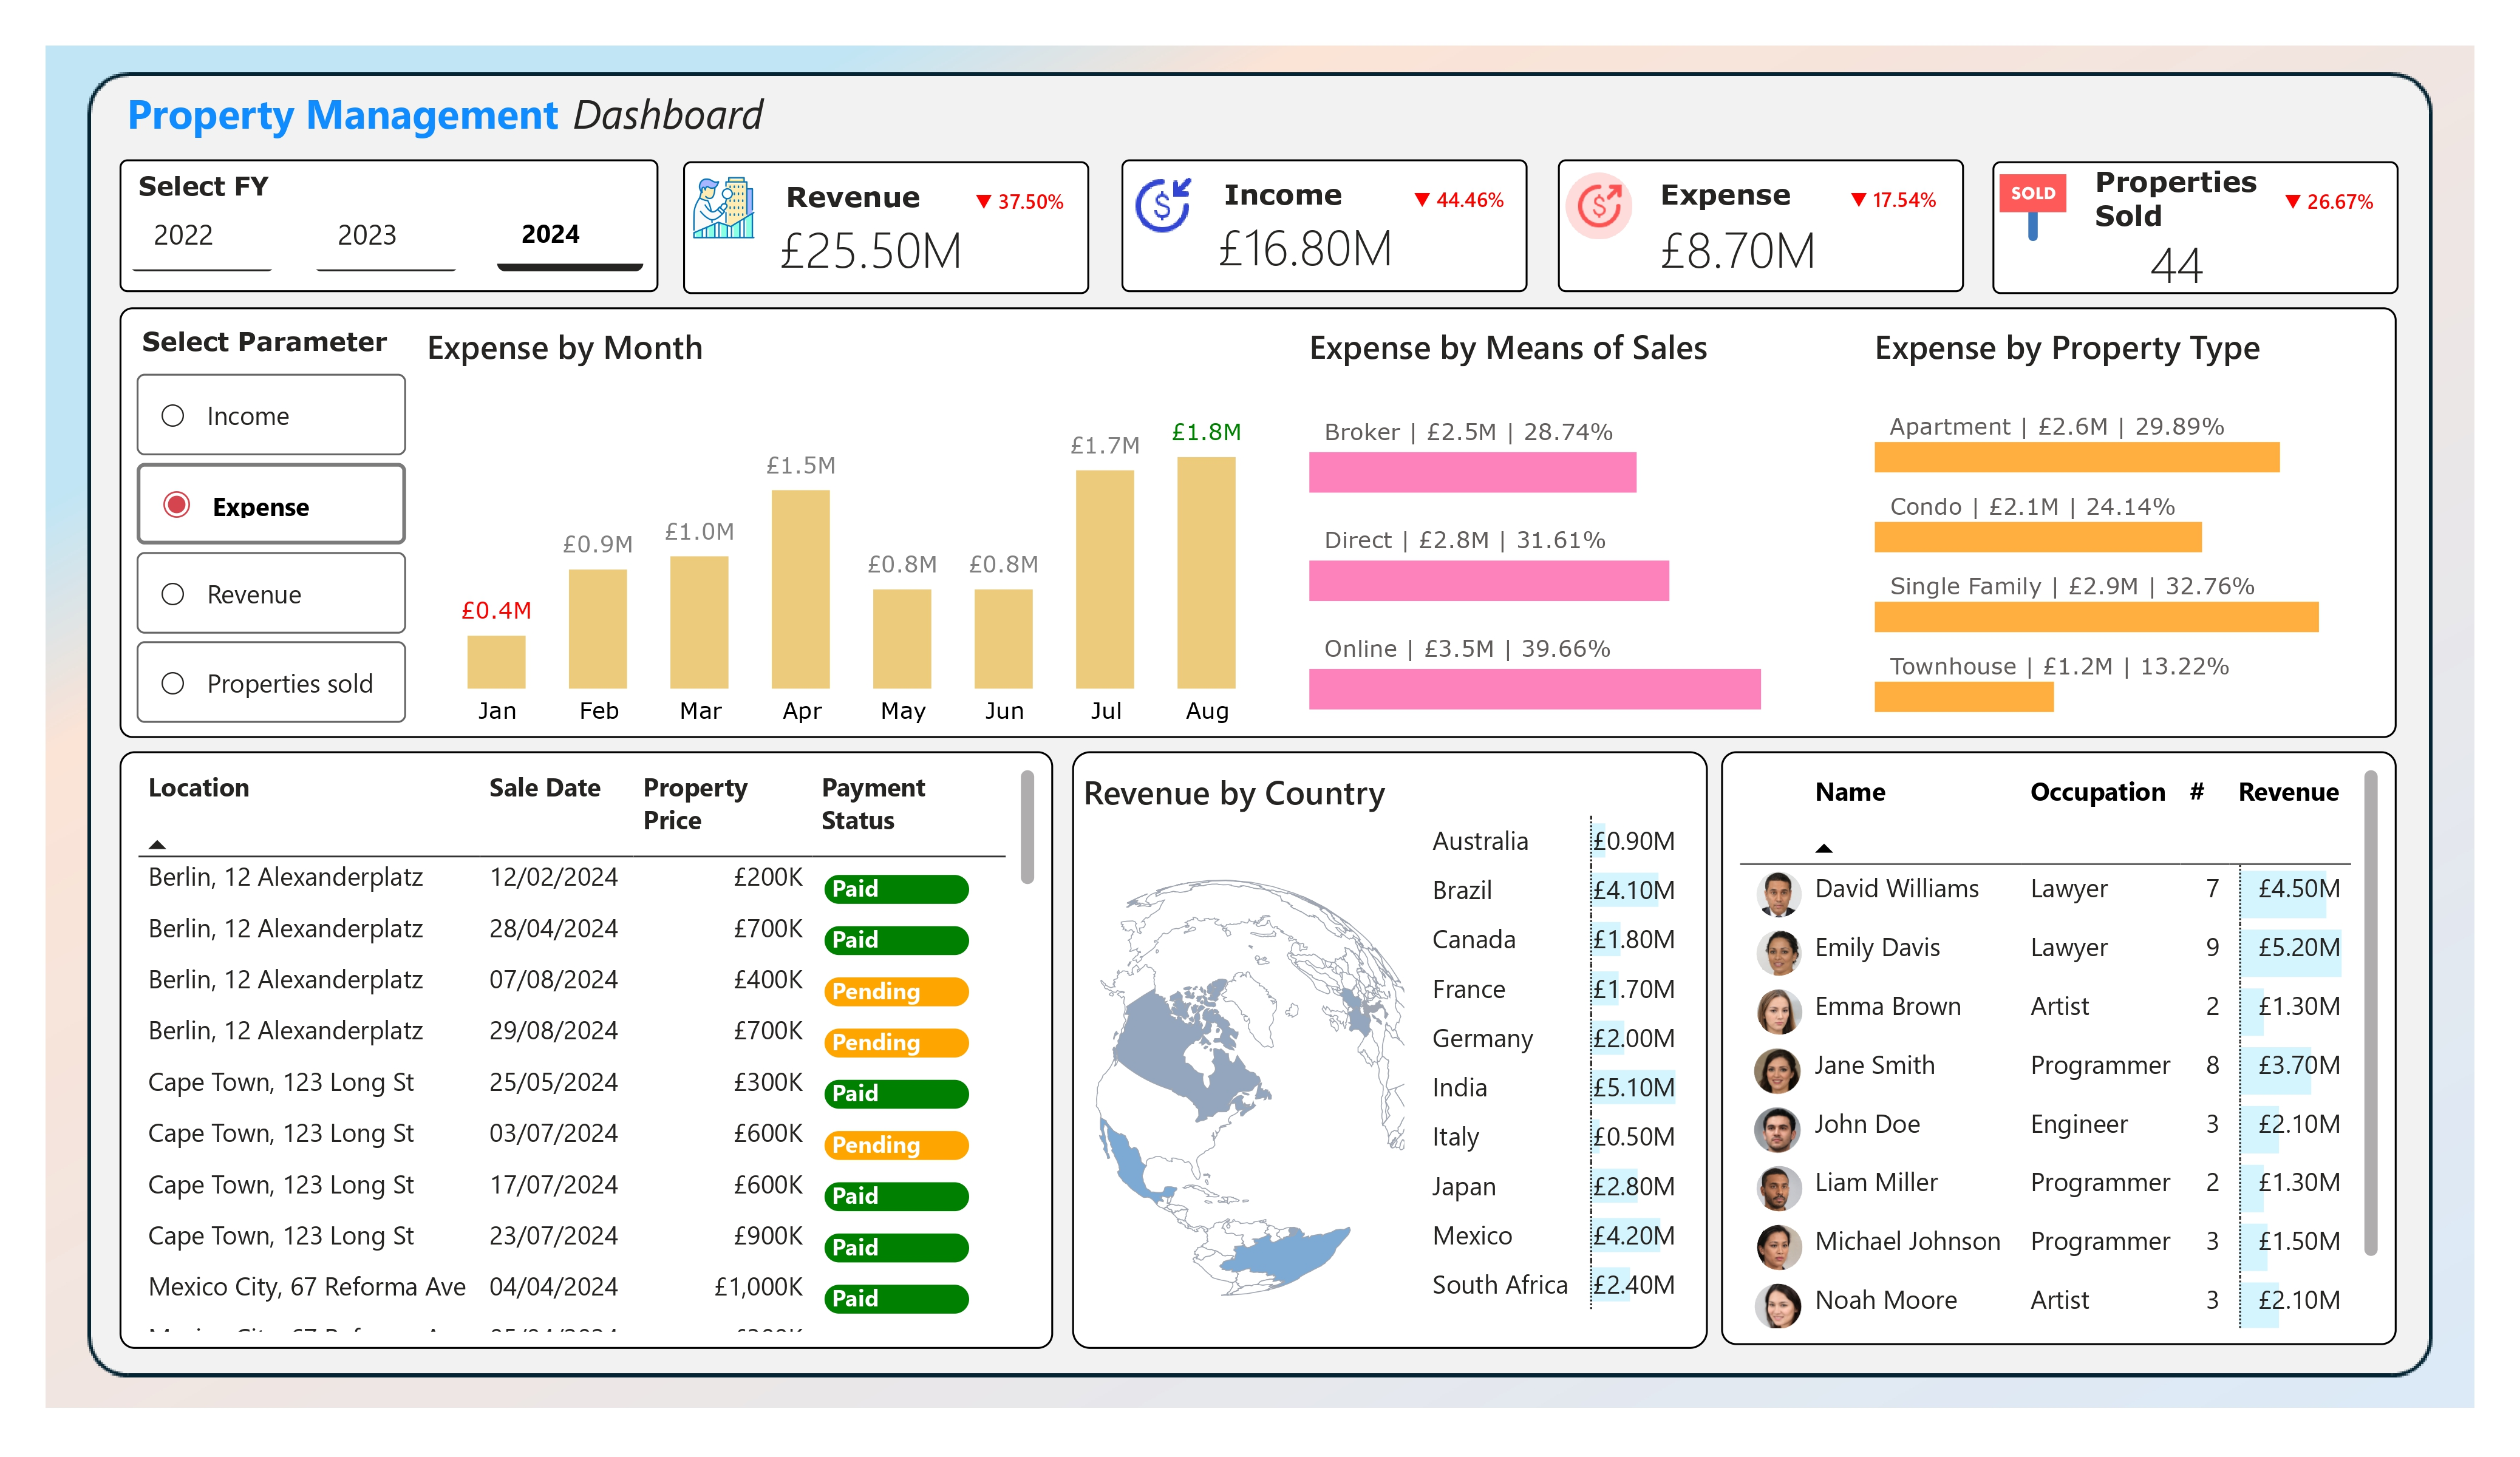

Layout of this report page (visuals, bound fields, positions):
{"tool":"powerbi","page":{"name":"Dashboard","canvas":[1280,720],"ordinal":0},"visuals":[{"type":"shape","box":[39.3,60.3,283.4,69.9],"z":0},{"type":"shape","box":[336,61.3,213.5,70.1],"z":0,"group":"g1"},{"type":"shape","box":[540.9,372.3,335.1,314.3],"z":1000},{"type":"shape","box":[39.4,138,1200.1,226.7],"z":2000},{"type":"advancedSlicerVisual","fields":{"Values":["Calendar.Year"]},"box":[39.3,71.8,283.4,52.7],"z":3000},{"type":"tableEx","fields":{"Values":["Property_Table.Location","Sales_Table.SaleDate","Sum(Property_Table.Price)","DAX.SVG_Payment Status"]},"box":[39.4,372.3,491.6,314.3],"z":4000},{"type":"shapeMap","fields":{"Category":["Property_Table.Country"],"Value":["DAX.Revenue"]},"box":[541.9,381,179.6,305.5],"z":5000},{"type":"tableEx","fields":{"Values":["Property_Table.Country","DAX.Revenue"]},"box":[720.4,371.2,162.1,302.2],"z":6000},{"type":"tableEx","fields":{"Values":["Client_Table.Img","Client_Table.Name","Client_Table.Occupation","DAX.Properties sold","DAX.Revenue"]},"box":[882.5,372.3,357,313.2],"z":7000},{"type":"clusteredColumnChart","fields":{"Category":["Calendar.Month"],"Y":["DAX.Expense"]},"box":[196,145.6,458.8,222.3],"z":8000},{"type":"advancedSlicerVisual","fields":{"Values":["Select the Parameter.Select the Parameter"]},"box":[43.4,168.5,152.5,197.7],"z":9000},{"type":"clusteredBarChart","fields":{"Category":["Sales_Table.Means of Sales"],"Y":["DAX.LHs","DAX.Expense"]},"box":[661.4,145.6,285.8,212.4],"z":10000},{"type":"clusteredBarChart","fields":{"Category":["Property_Table.Type"],"Y":["DAX.LH","DAX.Expense"]},"box":[959.2,145.6,281.4,212.4],"z":11000},{"type":"group","id":"g1","title":"Group 1","box":[336,61.3,214.5,78.5],"z":12000},{"type":"cardVisual","fields":{"Data":["DAX.Revenue"]},"box":[358.2,72.7,170.8,66.7],"z":12000,"group":"g1"},{"type":"group","id":"g2","title":"Group 2","box":[566.8,60.3,213.5,78.5],"z":13000},{"type":"image","box":[340.4,62.4,35,47.1],"z":13000,"group":"g1"},{"type":"group","id":"g3","title":"Group 3","box":[796.5,60.3,213.5,78.5],"z":14000},{"type":"textbox","box":[384.9,65.2,100.8,34.2],"z":14000,"group":"g1"},{"type":"group","id":"g4","title":"Group 4","box":[1026.3,57.4,224,89],"z":15000},{"type":"cardVisual","fields":{"Data":["DAX.Revenue YoY%"]},"box":[480.4,61.4,69.9,38.3],"z":15000,"group":"g1"},{"type":"textbox","box":[44,60.3,80.4,36.4],"z":16000},{"type":"shape","box":[566.8,60.3,213.5,70.1],"z":16000,"group":"g2"},{"type":"textbox","box":[38.1,16,484.1,39.9],"z":17000},{"type":"cardVisual","fields":{"Data":["DAX.Income"]},"box":[589,71.7,170.8,66.7],"z":17000,"group":"g2"},{"type":"textbox","box":[46,142.3,152.2,36.1],"z":17001},{"type":"image","box":[571.2,61.4,35,47.1],"z":18000,"group":"g2"},{"type":"textbox","box":[615.7,64.2,100.8,34.2],"z":19000,"group":"g2"},{"type":"cardVisual","fields":{"Data":["DAX.Income YoY%"]},"box":[711.2,60.4,69.9,38.3],"z":20000,"group":"g2"},{"type":"shape","box":[796.5,60.3,213.5,70.1],"z":21000,"group":"g3"},{"type":"cardVisual","fields":{"Data":["DAX.Expense"]},"box":[821.8,71.5,170.4,67],"z":22000,"group":"g3"},{"type":"image","box":[800.9,61.4,35,47.1],"z":23000,"group":"g3"},{"type":"textbox","box":[845.4,64.2,100.8,34.2],"z":24000,"group":"g3"},{"type":"cardVisual","fields":{"Data":["DAX.Expense YoY%"]},"box":[940.9,60.4,69.9,38.3],"z":25000,"group":"g3"},{"type":"shape","box":[1026.3,61.6,213.5,70.1],"z":26000,"group":"g4"},{"type":"cardVisual","fields":{"Data":["DAX.Properties sold"]},"box":[1079.9,79.4,170.4,67],"z":27000,"group":"g4"},{"type":"image","box":[1030.7,62.7,35,47.1],"z":28000,"group":"g4"},{"type":"textbox","box":[1075.5,57.4,143.6,46.9],"z":29000,"group":"g4"},{"type":"cardVisual","fields":{"Data":["DAX.Properties sold YoY%"]},"box":[1170.7,61.7,69.9,38.3],"z":30000,"group":"g4"}]}

Visuals, with their boxes in screenshot pixels (x1, y1, x2, y2):
shape: region(83, 150, 633, 285)
shape: region(659, 152, 1074, 288)
shape: region(1057, 755, 1708, 1365)
shape: region(83, 301, 2413, 741)
advancedSlicerVisual - Calendar.Year: region(83, 172, 633, 274)
tableEx - Property_Table.Location x Sales_Table.SaleDate: region(83, 755, 1038, 1365)
shapeMap - Property_Table.Country x DAX.Revenue: region(1058, 772, 1408, 1365)
tableEx - Property_Table.Country x DAX.Revenue: region(1405, 753, 1720, 1340)
tableEx - Client_Table.Img x Client_Table.Name: region(1720, 755, 2413, 1364)
clusteredColumnChart - Calendar.Month x DAX.Expense: region(387, 316, 1278, 747)
advancedSlicerVisual - Select the Parameter.Select the Parameter: region(91, 360, 387, 744)
clusteredBarChart - Sales_Table.Means of Sales x DAX.LHs: region(1291, 316, 1845, 728)
clusteredBarChart - Property_Table.Type x DAX.LH: region(1869, 316, 2415, 728)
"Group 1" group: region(659, 152, 1075, 304)
cardVisual - DAX.Revenue: region(702, 174, 1034, 304)
"Group 2" group: region(1107, 150, 1522, 302)
image: region(667, 154, 735, 245)
"Group 3" group: region(1553, 150, 1967, 302)
textbox: region(754, 160, 950, 226)
"Group 4" group: region(1999, 144, 2434, 317)
cardVisual - DAX.Revenue YoY%: region(939, 152, 1075, 226)
textbox: region(92, 150, 248, 220)
shape: region(1107, 150, 1522, 286)
textbox: region(81, 64, 1020, 141)
cardVisual - DAX.Income: region(1150, 172, 1482, 302)
textbox: region(96, 309, 392, 379)
image: region(1115, 152, 1183, 243)
textbox: region(1202, 157, 1398, 224)
cardVisual - DAX.Income YoY%: region(1388, 150, 1523, 225)
shape: region(1553, 150, 1967, 286)
cardVisual - DAX.Expense: region(1602, 172, 1933, 302)
image: region(1562, 152, 1629, 243)
textbox: region(1648, 157, 1844, 224)
cardVisual - DAX.Expense YoY%: region(1833, 150, 1969, 225)
shape: region(1999, 152, 2414, 288)
cardVisual - DAX.Properties sold: region(2103, 187, 2434, 317)
image: region(2007, 155, 2076, 246)
textbox: region(2095, 144, 2374, 236)
cardVisual - DAX.Properties sold YoY%: region(2280, 152, 2415, 227)
